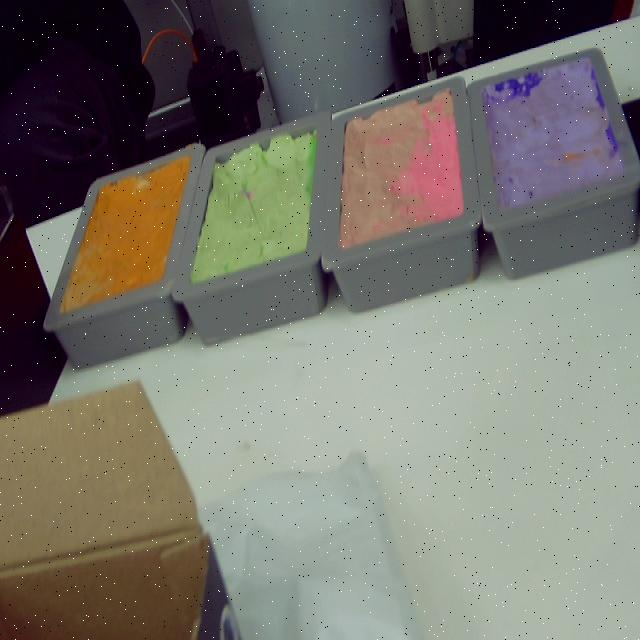block: (466, 46, 640, 279), (322, 75, 484, 312), (171, 115, 337, 346), (38, 143, 206, 370)
